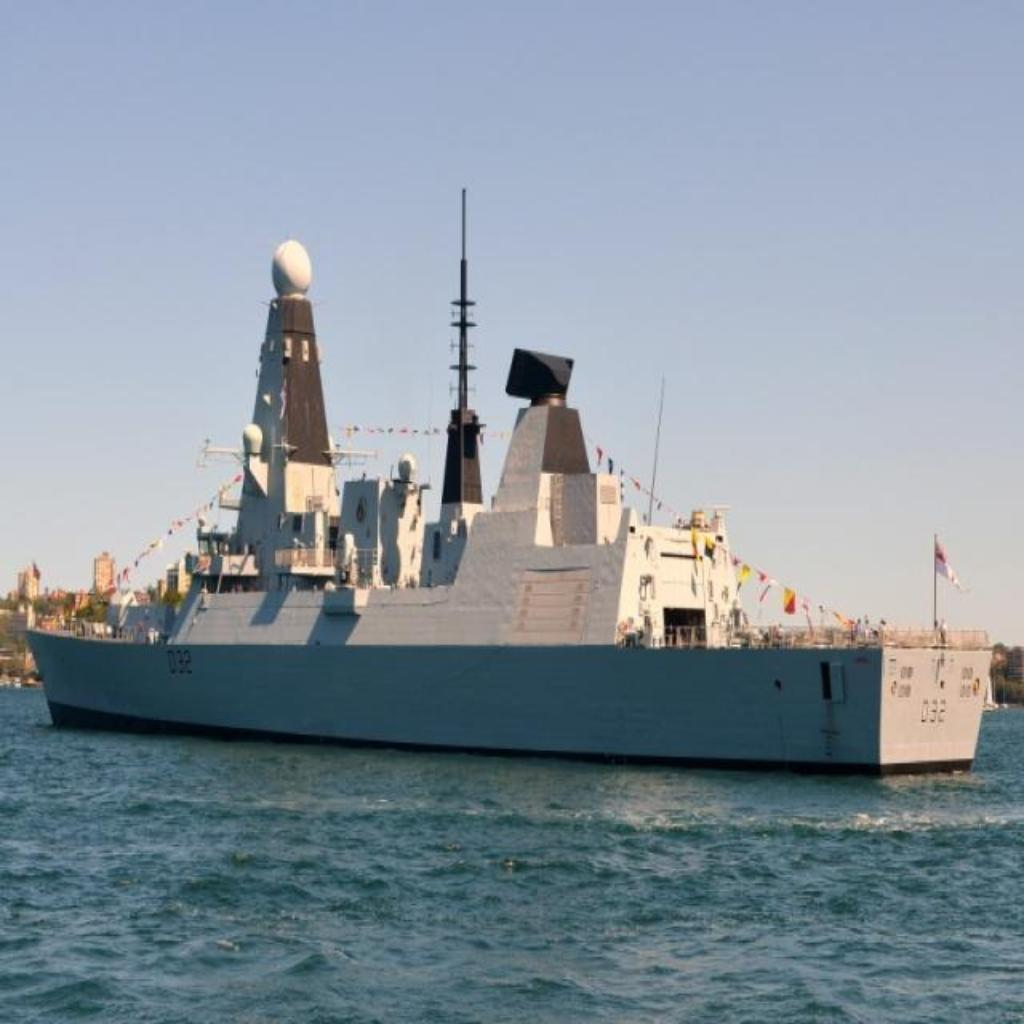Warship: (18, 174, 996, 782)
